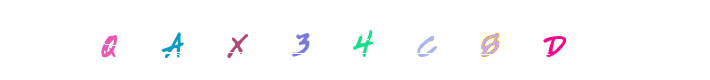3: (315, 0, 395, 80)
4: (324, 0, 404, 80)
8: (450, 0, 530, 80)
A: (170, 0, 250, 80)
C: (352, 0, 432, 80)
D: (515, 0, 595, 80)
Q: (134, 0, 214, 80)
X: (246, 0, 326, 80)
